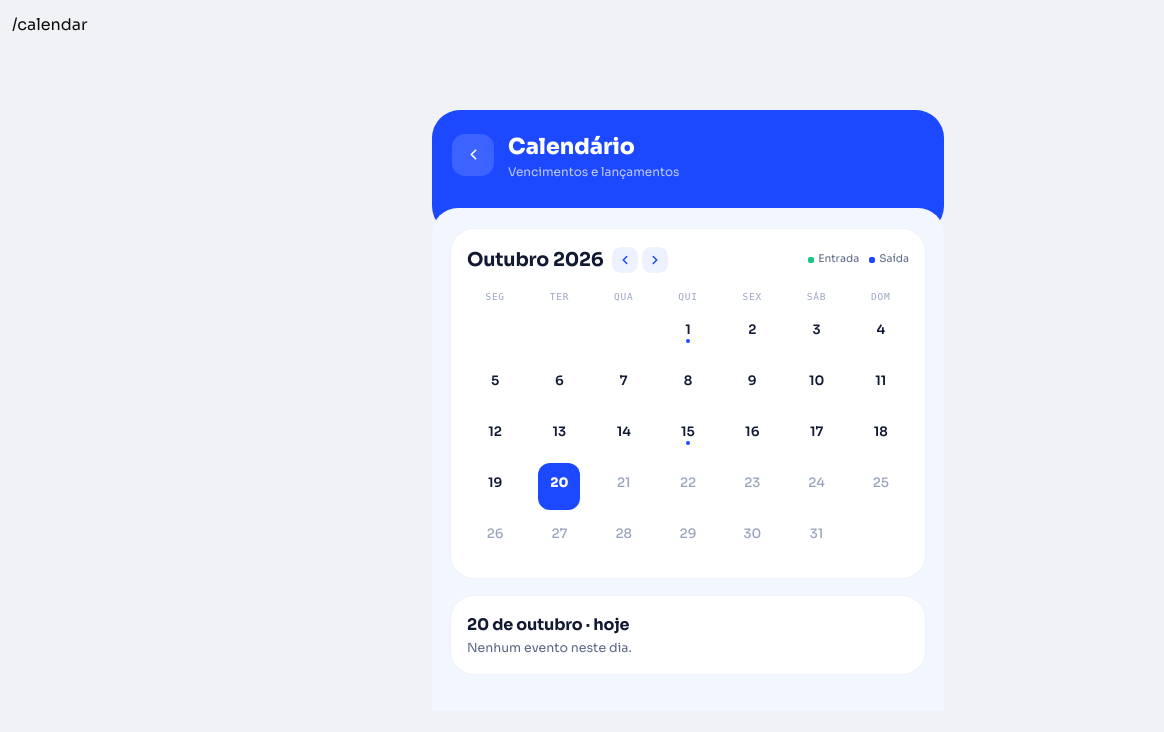
Calendário — mês e dias › conta fixa que vence mostra "Vencimento" e parcela mostra "Parcela N/M"
Click the button named "15 de outubro".
click(688, 436)  # box [667, 412, 709, 459]
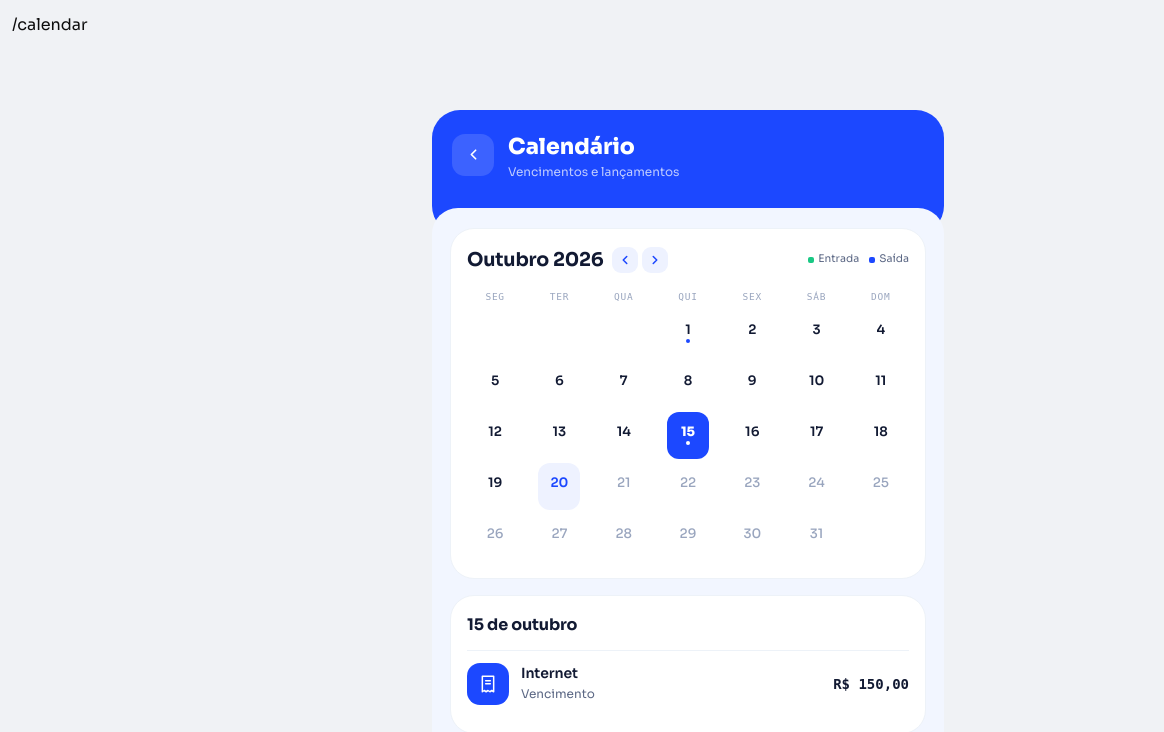
Expected: the text "Internet" is shown, [521, 664, 578, 682]
Expected: the text "Vencimento" is shown, [521, 686, 595, 701]
Click the button named "1 de outubro".
click(688, 334)  # box [667, 310, 709, 357]
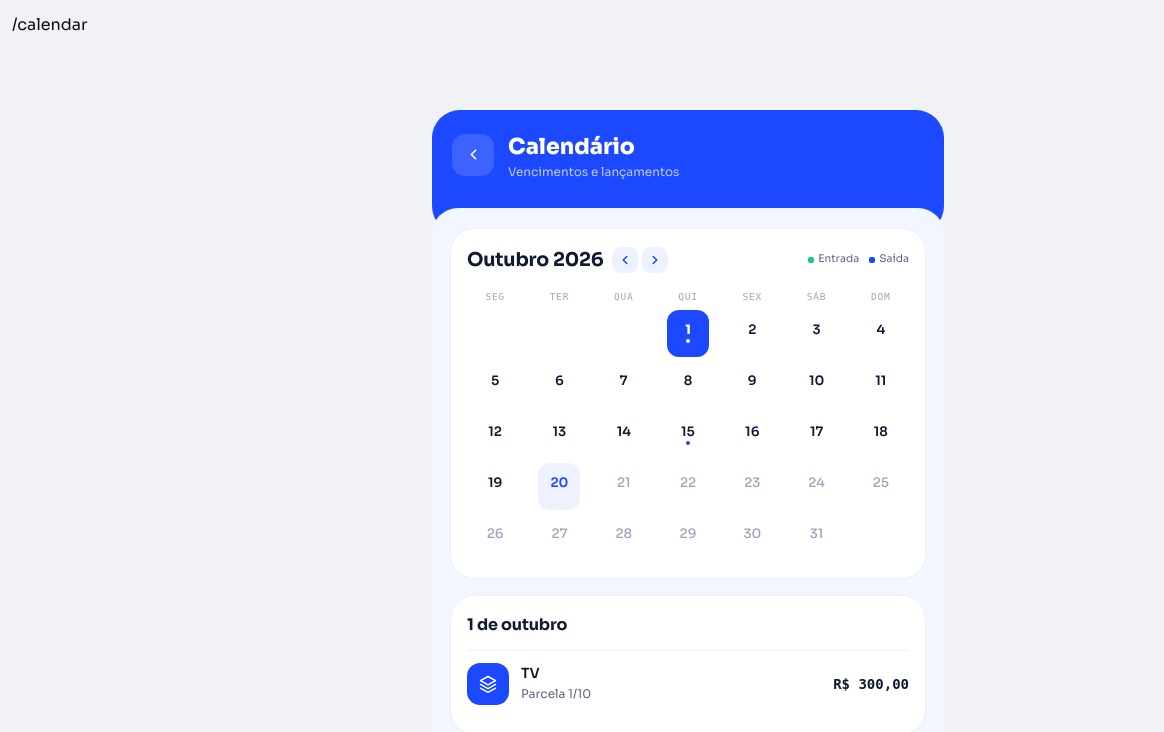
Expected: the text "Parcela 1/10" is shown, [521, 686, 591, 701]
